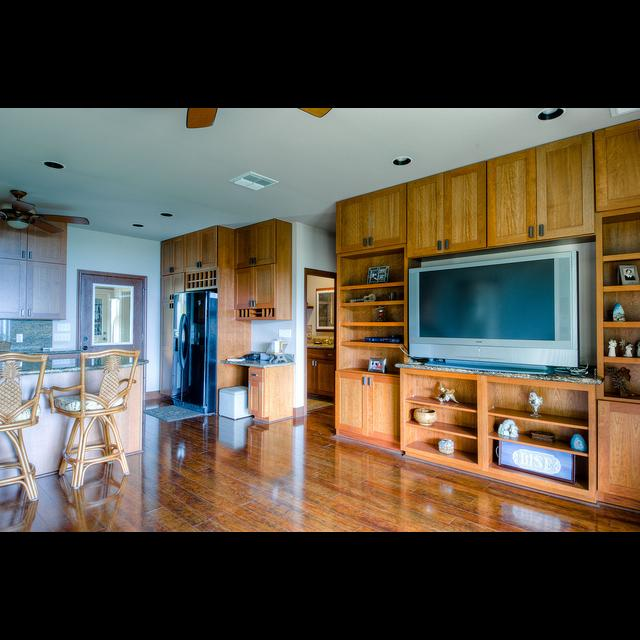Flat-Panel-TV: (410, 239, 597, 375)
Refrigerator: (171, 291, 217, 414)
